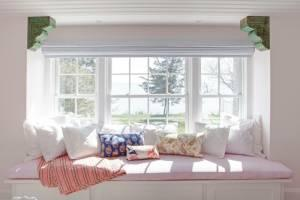window: (46, 55, 248, 141)
